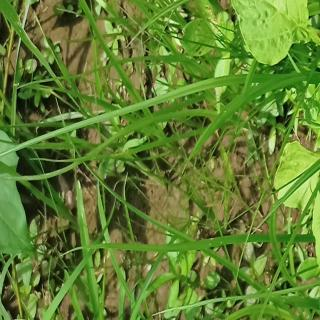virus_keriting: (300, 69, 320, 129)
